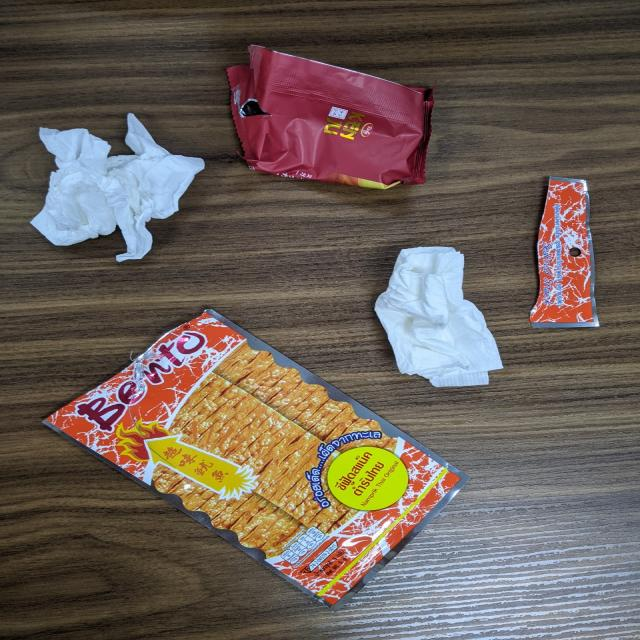napkin: (29, 112, 205, 264), (374, 246, 504, 388)
snack package: (40, 307, 471, 614), (225, 42, 436, 191)
